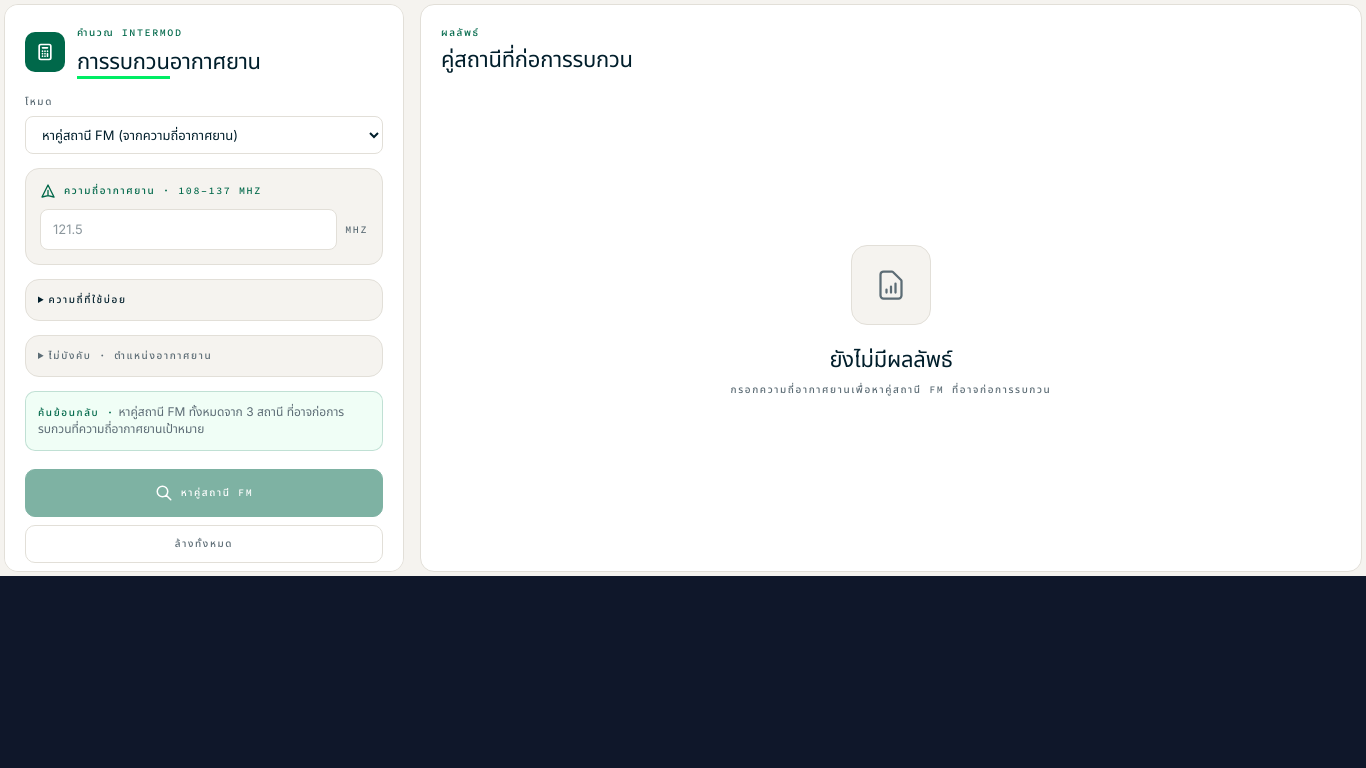
Test: IntermodCalculator - Deep Tests › renders specific-frequency results with no aviation products
Select "ตรวจความถี่ FM สองค่า" in the dropdown. click: (204, 135)
box: [25, 116, 383, 154]
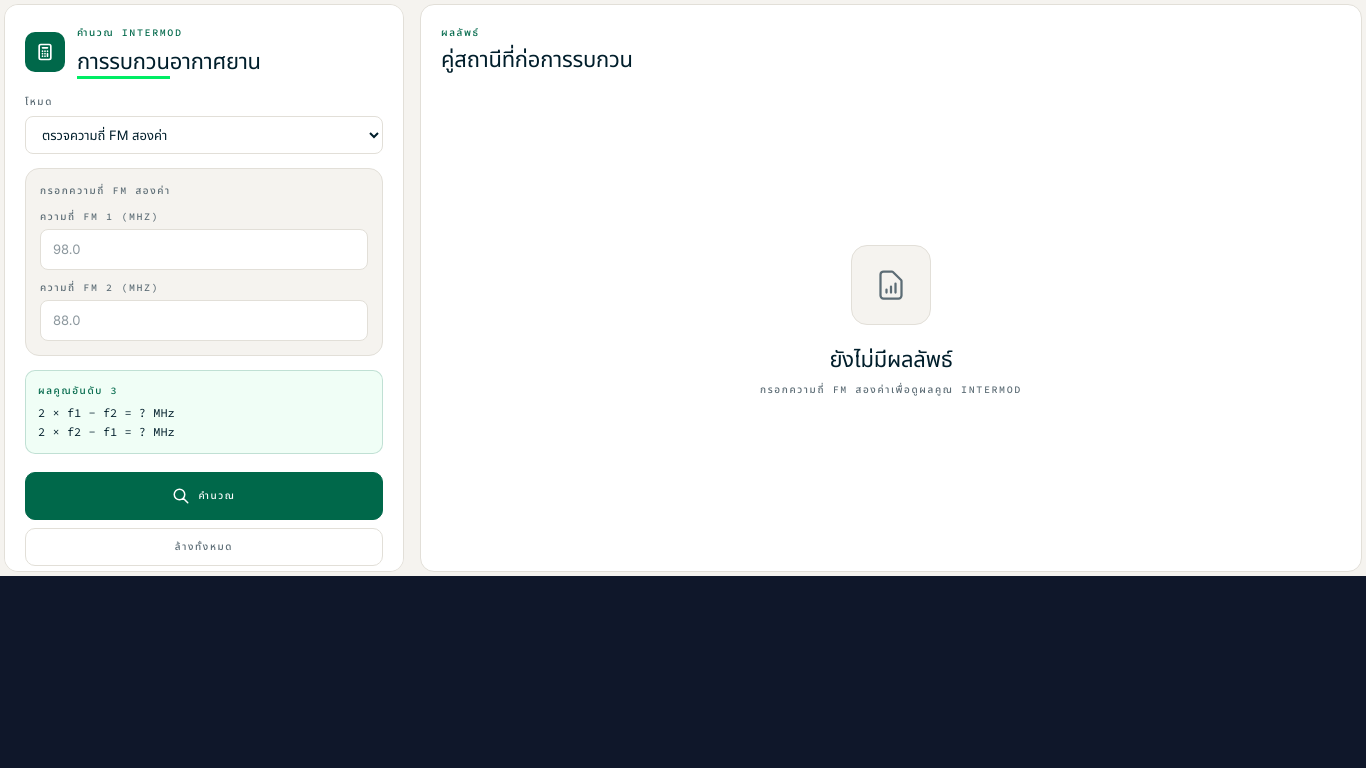
Type "88.0" into the number field with placeholder "98.0". click: (204, 250)
box: [40, 229, 368, 270]
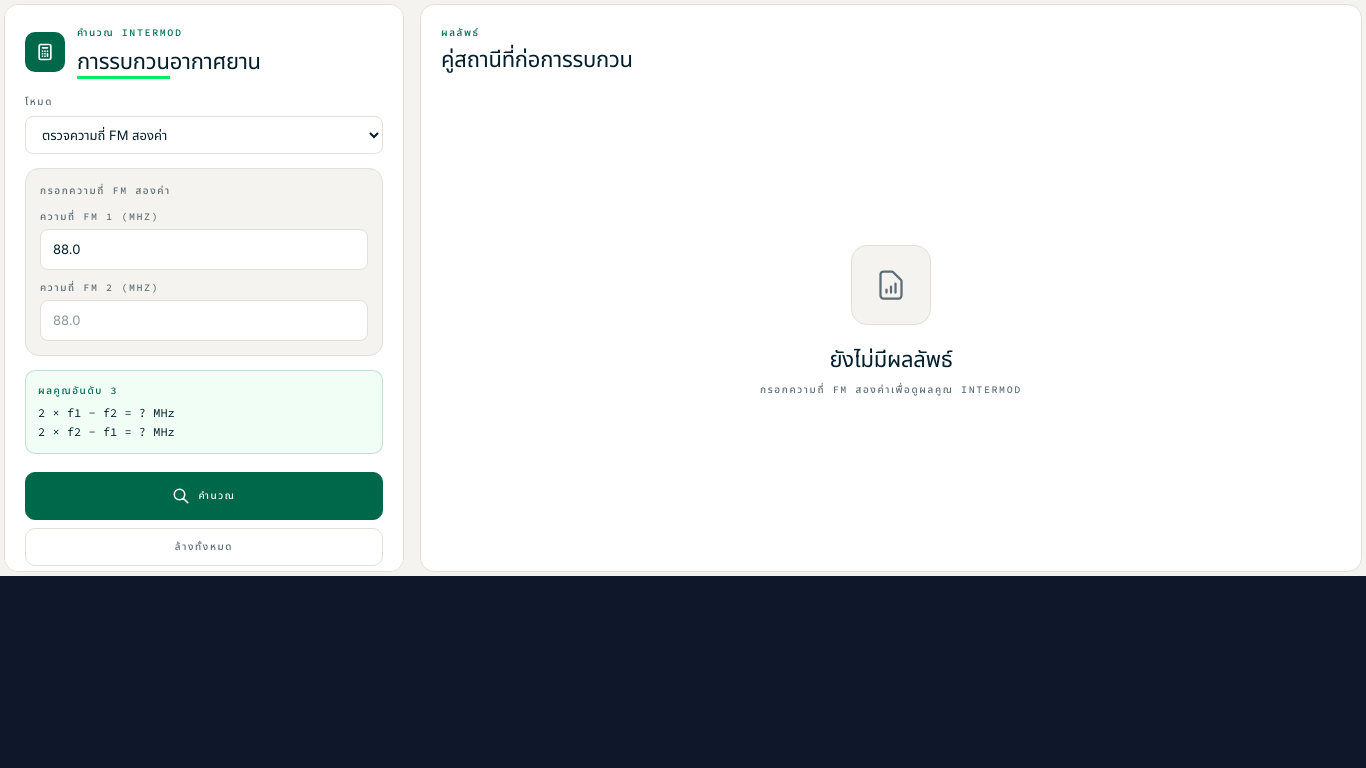
Type "98.0" into the number field with placeholder "88.0". click: (204, 320)
box: [40, 300, 368, 341]
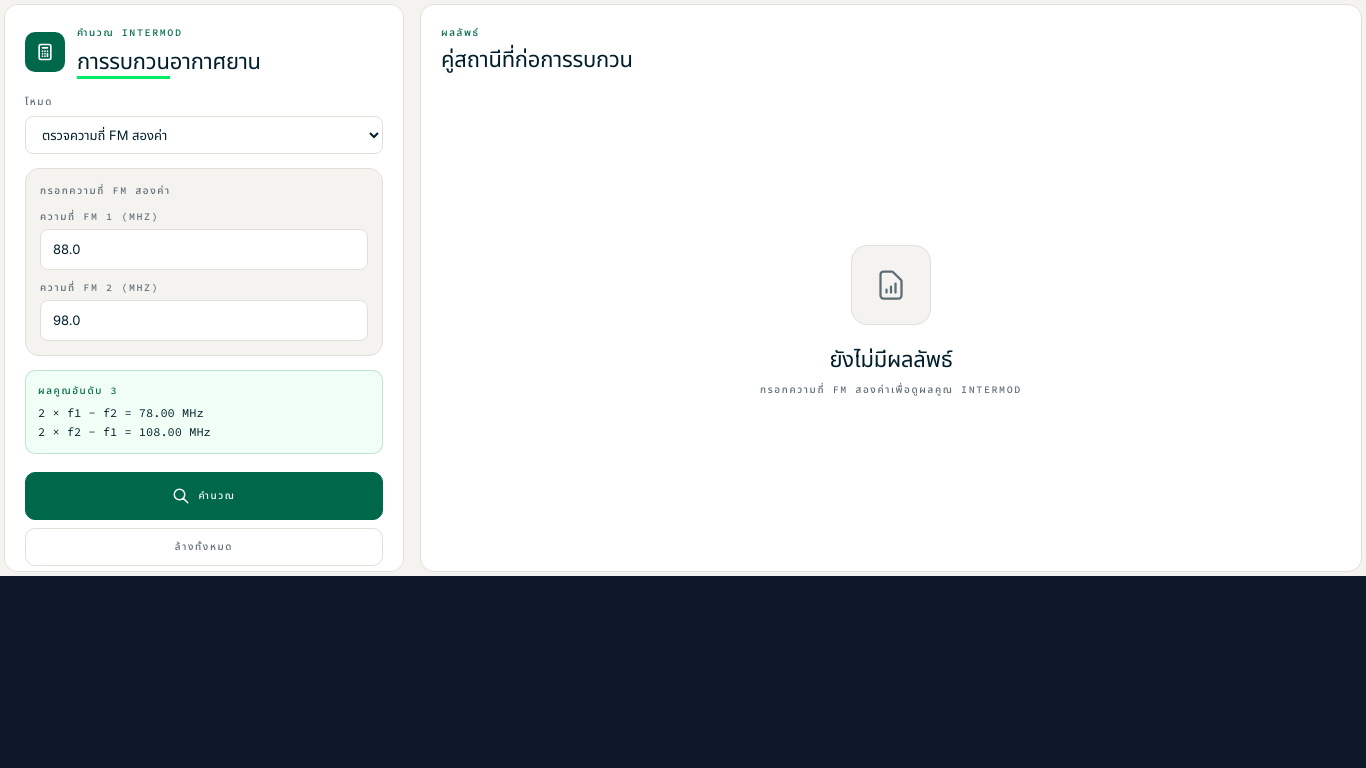
Click the button "คำนวณ". click: (204, 496)
box: [25, 472, 383, 520]
Wait 100 ms
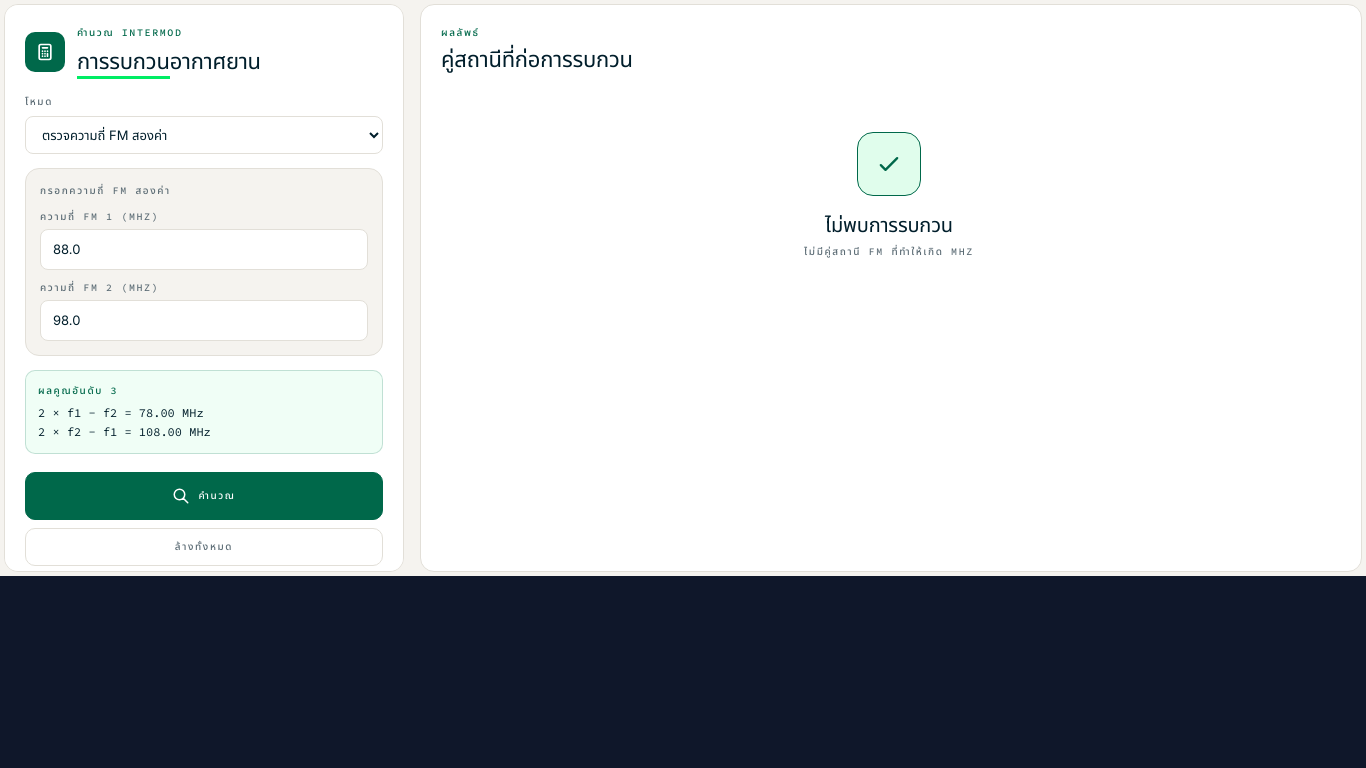
Check: the text "ไม่พบการรบกวน" is shown, box [825, 210, 953, 237]
